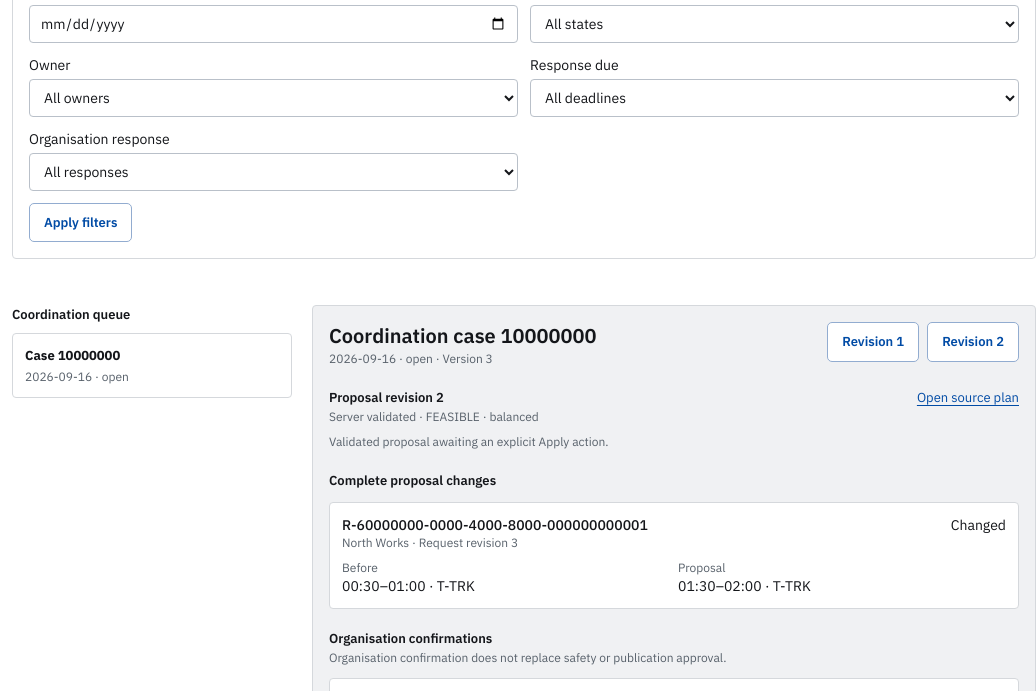
planner coordination › aligns historical confirmation evidence and disables Apply on an older revision
This screenshot has width=1036, height=691.
Click the button "Revision 1": coordinates (873, 342) [827, 322, 919, 362]
(page scrolled)
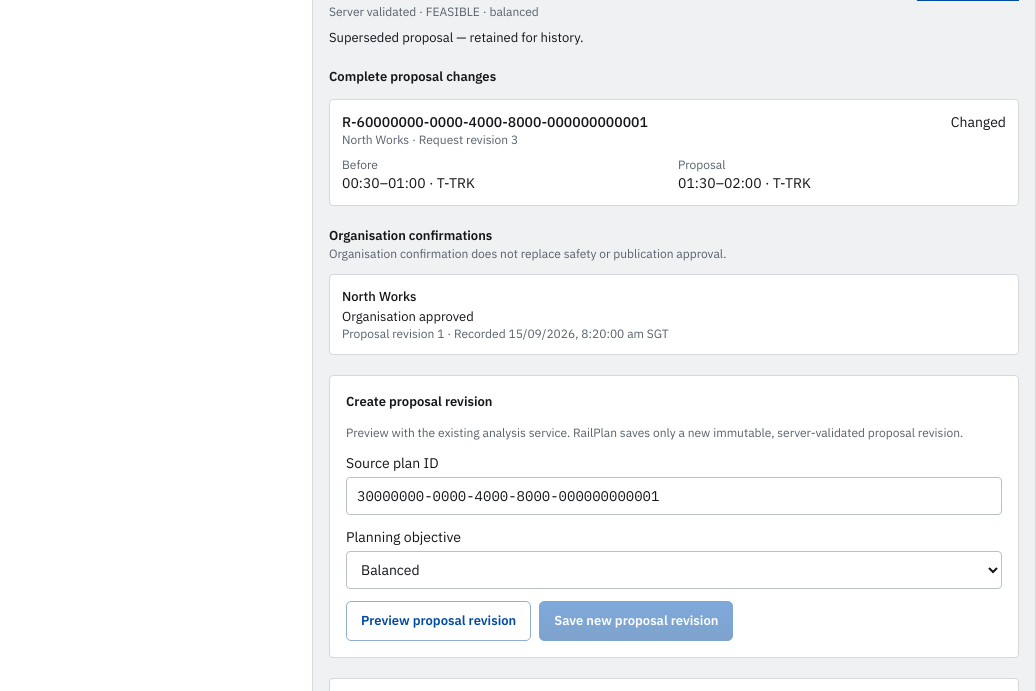
Expected: the text "Organisation approved" is shown, [342, 308, 474, 325]
